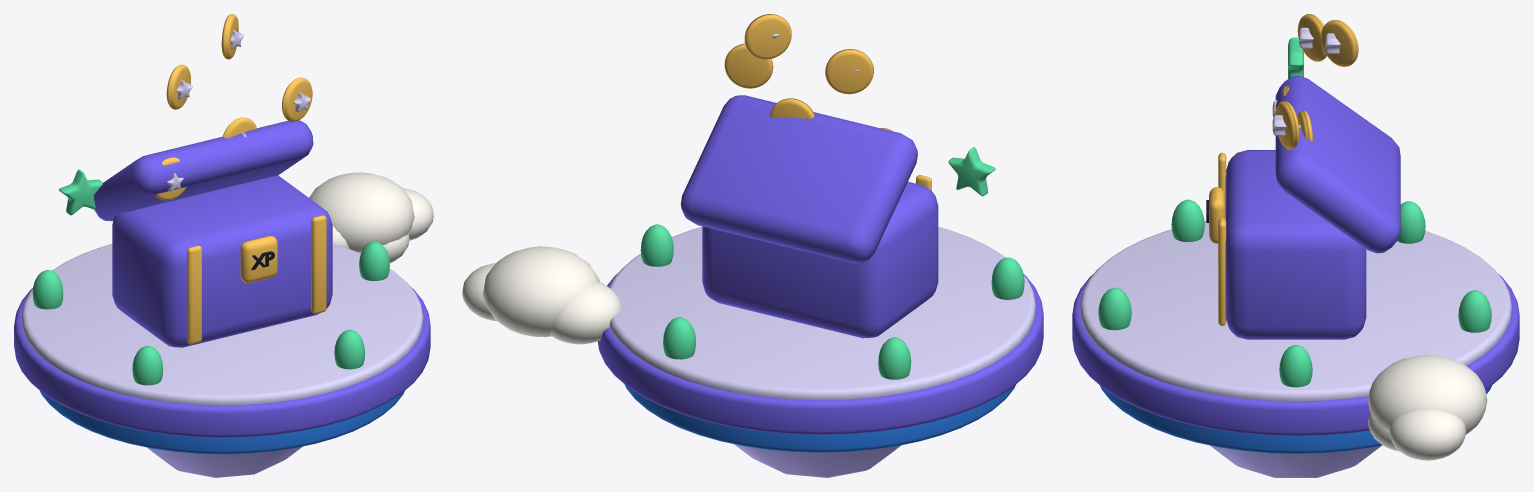
The model's file is chest.glb.
3 views of the same model, side by side, from view 1: azimuth 30°, elevation 25°; view 2: azimuth 150°, elevation 25°; view 3: azimuth 270°, elevation 25° (orthographic). The views are drawn at different scales.
Visible parts, largest first — view 1: Island pale top, Chest body, Island violet rim, Chest lid, Cloud.001, Island blue underside, Floating rock, Gold chest band.001, Gold chest band, Chest lock, Collectible.005, Grass bud.003 (+8 smaller); view 2: Island pale top, Chest lid, Chest body, Island violet rim, Cloud.001, Island blue underside, Floating rock, Cloud, XP coin 3, XP coin 4, XP coin 2, Collectible.005 (+6 smaller); view 3: Island pale top, Chest body, Chest lid, Island violet rim, Cloud.001, Island blue underside, Cloud.002, Floating rock, Grass bud, Grass bud.004, Grass bud.003, Grass bud.001 (+8 smaller).
Boxes of the visible parts, x1=… form: Island pale top: x1=21, y1=244, x2=423, y2=405; Chest body: x1=112, y1=175, x2=332, y2=347; Island violet rim: x1=14, y1=287, x2=430, y2=437; Chest lid: x1=94, y1=120, x2=313, y2=221; Cloud.001: x1=309, y1=172, x2=414, y2=252; Island blue underside: x1=40, y1=391, x2=404, y2=454; Floating rock: x1=147, y1=446, x2=302, y2=477; Gold chest band.001: x1=311, y1=215, x2=326, y2=313; Gold chest band: x1=187, y1=245, x2=201, y2=344; Chest lock: x1=240, y1=236, x2=277, y2=282; Collectible.005: x1=59, y1=169, x2=102, y2=215; Grass bud.003: x1=132, y1=346, x2=163, y2=385; Island pale top: x1=609, y1=227, x2=1035, y2=400; Chest lid: x1=680, y1=95, x2=917, y2=263; Chest body: x1=702, y1=181, x2=938, y2=338; Island violet rim: x1=597, y1=272, x2=1043, y2=434; Cloud.001: x1=483, y1=246, x2=599, y2=337; Island blue underside: x1=624, y1=384, x2=1015, y2=452; Floating rock: x1=734, y1=444, x2=900, y2=477; Cloud: x1=550, y1=282, x2=621, y2=344; XP coin 3: x1=825, y1=49, x2=873, y2=94; XP coin 4: x1=744, y1=14, x2=791, y2=59; XP coin 2: x1=724, y1=43, x2=773, y2=88; Collectible.005: x1=948, y1=147, x2=995, y2=196; Island pale top: x1=1080, y1=221, x2=1511, y2=401; Chest body: x1=1225, y1=150, x2=1366, y2=339; Chest lid: x1=1275, y1=75, x2=1400, y2=253; Island violet rim: x1=1072, y1=274, x2=1519, y2=435; Cloud.001: x1=1367, y1=354, x2=1487, y2=434; Island blue underside: x1=1100, y1=386, x2=1491, y2=453; Cloud.002: x1=1389, y1=410, x2=1466, y2=460; Floating rock: x1=1210, y1=445, x2=1381, y2=477; Grass bud: x1=1279, y1=345, x2=1312, y2=387; Grass bud.004: x1=1098, y1=287, x2=1131, y2=330; Grass bud.003: x1=1171, y1=199, x2=1204, y2=242; Grass bud.001: x1=1458, y1=290, x2=1491, y2=332.
Bounding box in the file's own units: 6.34 × 5.63 × 5.1.
